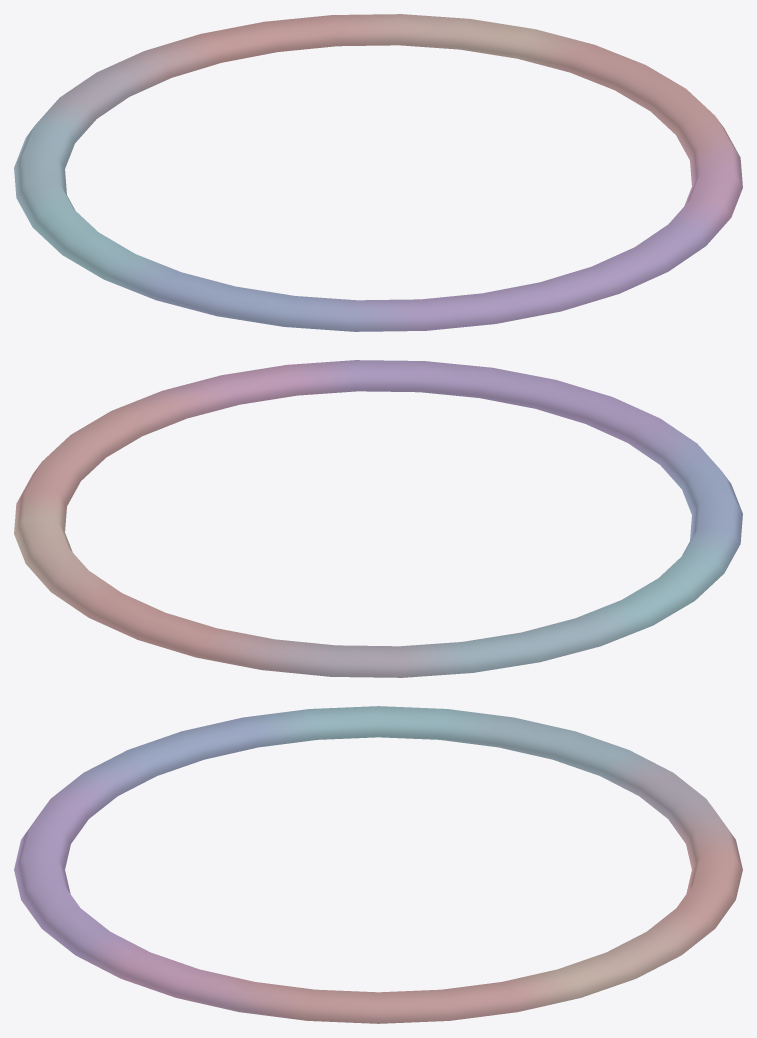
File: locomotion_cursor.glb
3 views of the same model, one above another, from view 1: azimuth 30°, elevation 25°; view 2: azimuth 150°, elevation 25°; view 3: azimuth 270°, elevation 25° (orthographic).
Visible parts, largest first — view 1: Circle; view 2: Circle; view 3: Circle.
Boxes of the visible parts, x1,y1,x2,y2 form: Circle: (14, 14, 742, 331); Circle: (14, 360, 742, 677); Circle: (14, 706, 742, 1023).
Bounding box in the file's own units: 0.3 × 0.00627 × 0.3.
